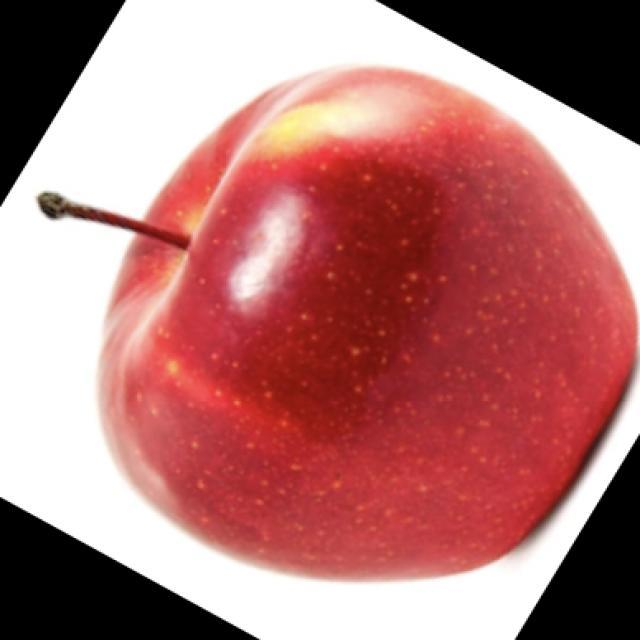Fresh Apple: (130, 83, 607, 580)
